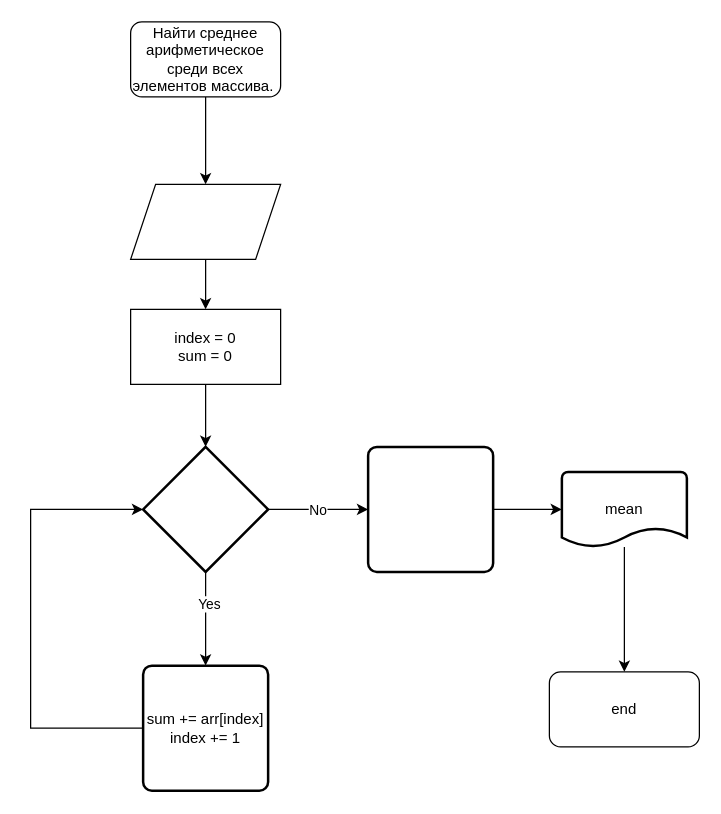
This 721x814 diagram has some shape labels left out. Here are the shapes that lost their labels. From the top down, the centre of each, then its label:
[205,221]: size arr[size]
[205,508]: index < size
[430,508]: mean = sum / size
